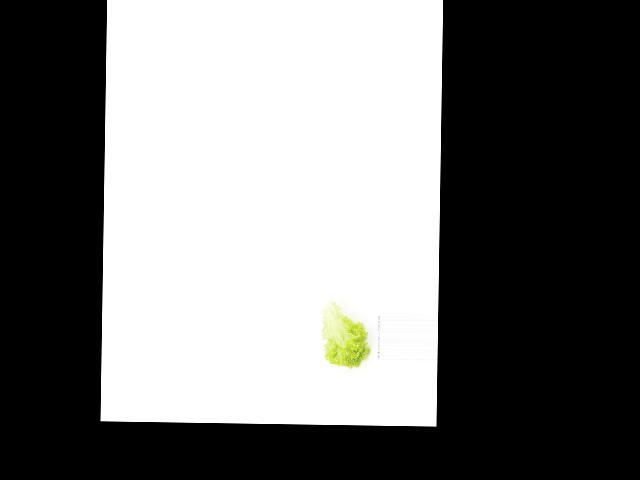lettuce: (318, 301, 371, 371)
